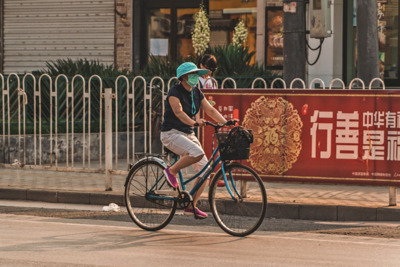with_mask: (184, 69, 199, 87)
without_mask: (205, 67, 216, 78)
